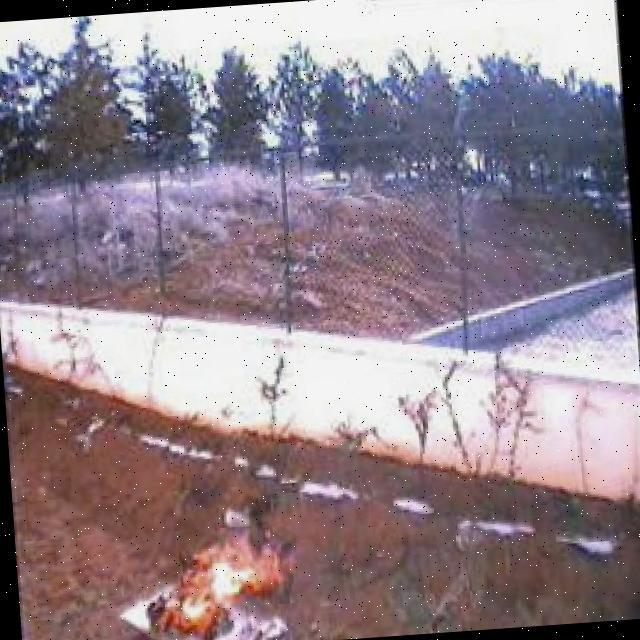Fire: (135, 513, 299, 640)
